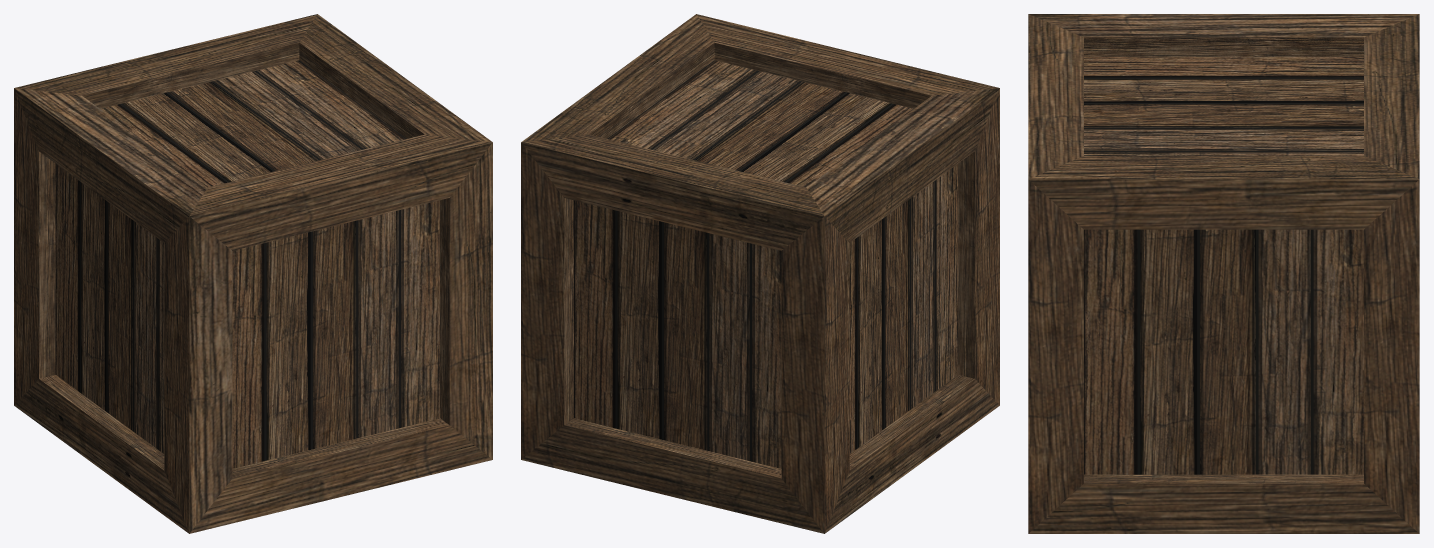
Rendered from Crate.fbx.
3 views of the same model, side by side, from view 1: azimuth 30°, elevation 25°; view 2: azimuth 150°, elevation 25°; view 3: azimuth 270°, elevation 25° (orthographic). The views are drawn at different scales.
Visible parts, largest first — view 1: Cube (2); view 2: Cube (2); view 3: Cube (2).
Boxes of the visible parts, box(x1,y1,x2,y2) form: Cube (2): box(14, 14, 492, 533); Cube (2): box(521, 14, 999, 533); Cube (2): box(1028, 14, 1419, 533).
Size of the model in its own units: 100 by 100 by 100.
